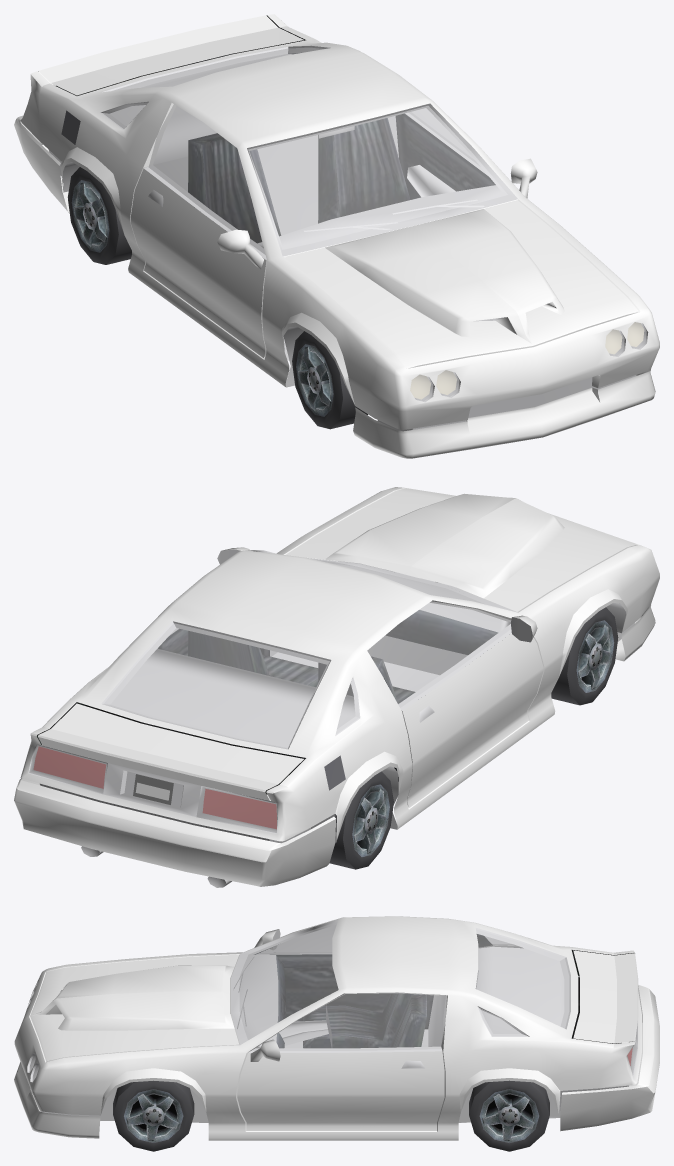
The model's file is buffalo.glb.
The picture shows the model from 3 angles, top to bottom: view 1: azimuth 30°, elevation 25°; view 2: azimuth 150°, elevation 25°; view 3: azimuth 270°, elevation 25°; orthographic projection. The views are drawn at different scales.
Visible parts, largest first — view 1: body, door_R, door_L, wheel_FR, wheel_BR; view 2: body, door_R, wheel_FR, wheel_BR, door_L; view 3: body, door_L, door_R, wheel_FL, wheel_BL.
Part boxes in pixels (<box>): body: <box>14,14,659,458</box>; door_R: <box>130,104,266,357</box>; door_L: <box>395,108,537,199</box>; wheel_FR: <box>292,331,367,429</box>; wheel_BR: <box>67,167,131,264</box>; body: <box>14,487,659,887</box>; door_R: <box>367,601,543,807</box>; wheel_FR: <box>551,607,618,705</box>; wheel_BR: <box>329,771,393,869</box>; door_L: <box>158,547,269,656</box>; body: <box>14,916,659,1140</box>; door_L: <box>237,992,446,1130</box>; door_R: <box>254,925,433,1029</box>; wheel_FL: <box>113,1080,194,1151</box>; wheel_BL: <box>469,1080,549,1151</box>.
Bounding box in the file's own units: 2.5 × 1.43 × 5.58.
5 materials, 2 textured.
